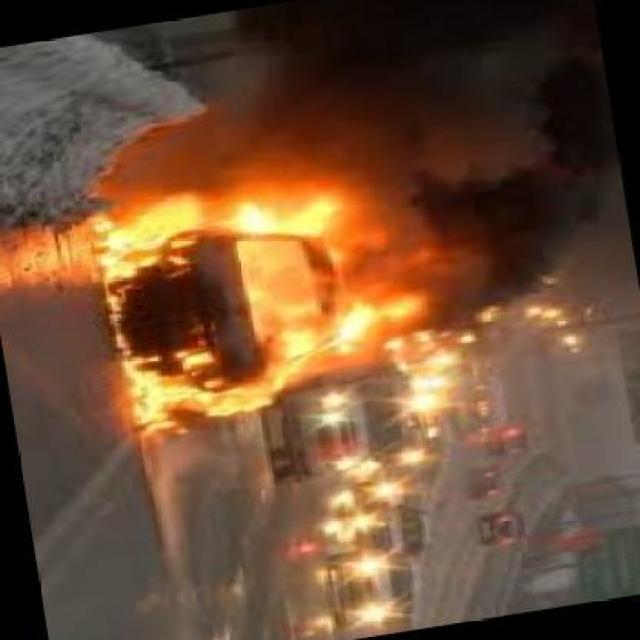Fire: (94, 179, 422, 395)
Smoke: (215, 4, 610, 187), (403, 162, 619, 378)
